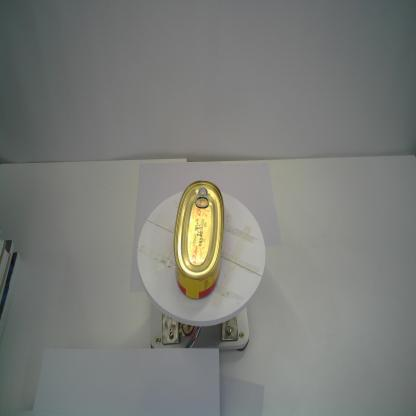Canned Food: (173, 178, 225, 302)
